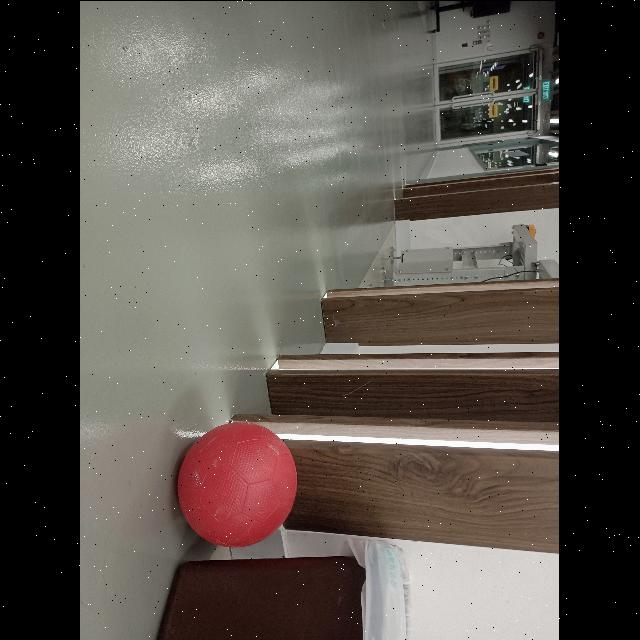R: (176, 423, 298, 547)
